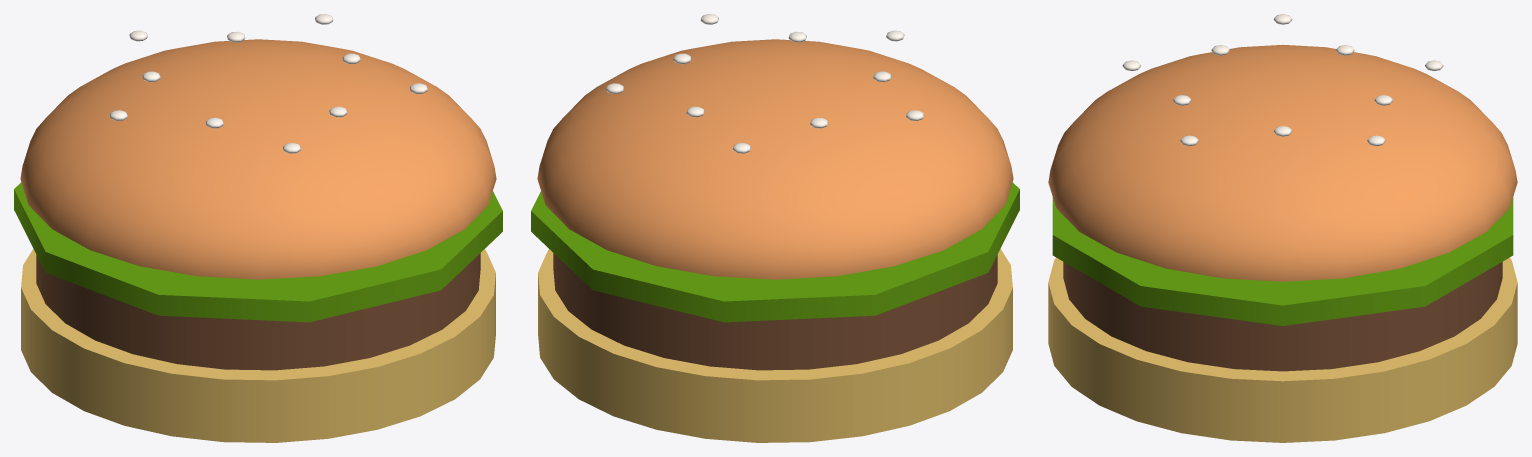
File: krabby-patty.glb
3 views of the same model, side by side, from view 1: azimuth 30°, elevation 25°; view 2: azimuth 150°, elevation 25°; view 3: azimuth 270°, elevation 25° (orthographic).
Bounding box in the file's own units: 1.28 × 0.7613 × 1.24.
